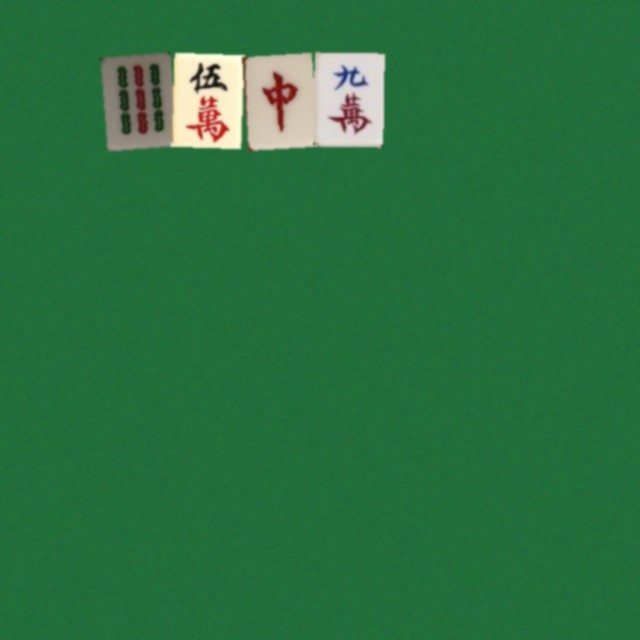tile: (100, 52, 170, 146), (171, 52, 241, 146), (242, 52, 312, 146), (313, 52, 383, 146)
